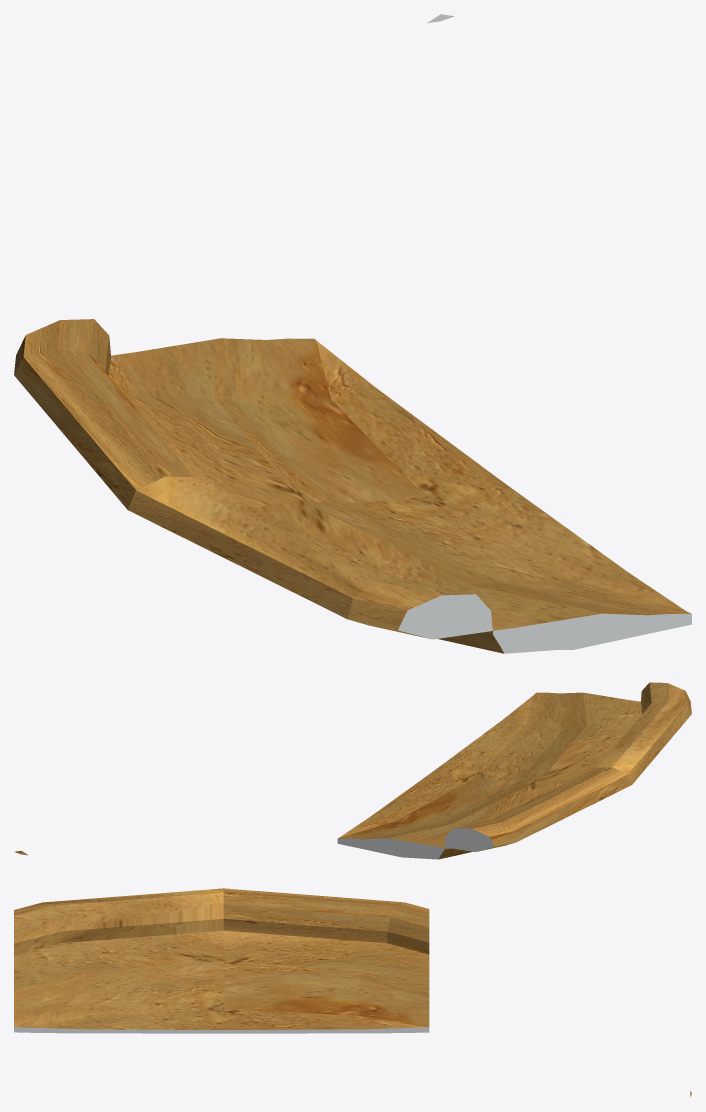
File: rec4.gltf
3 renders of one model, top to bottom at view 1: azimuth 30°, elevation 25°; view 2: azimuth 150°, elevation 25°; view 3: azimuth 270°, elevation 25°, orthographic. The views are drawn at different scales.
Visible parts, largest first — view 1: 평면; view 2: 평면; view 3: 평면.
Boxes of the visible parts, x1,y1,x2,y2 form: 평면: (14, 14, 691, 653); 평면: (14, 682, 691, 859); 평면: (14, 888, 691, 1096).
Bounding box in the file's own units: 0.8439 × 0.0995 × 1.2.
1 material, 1 textured.
